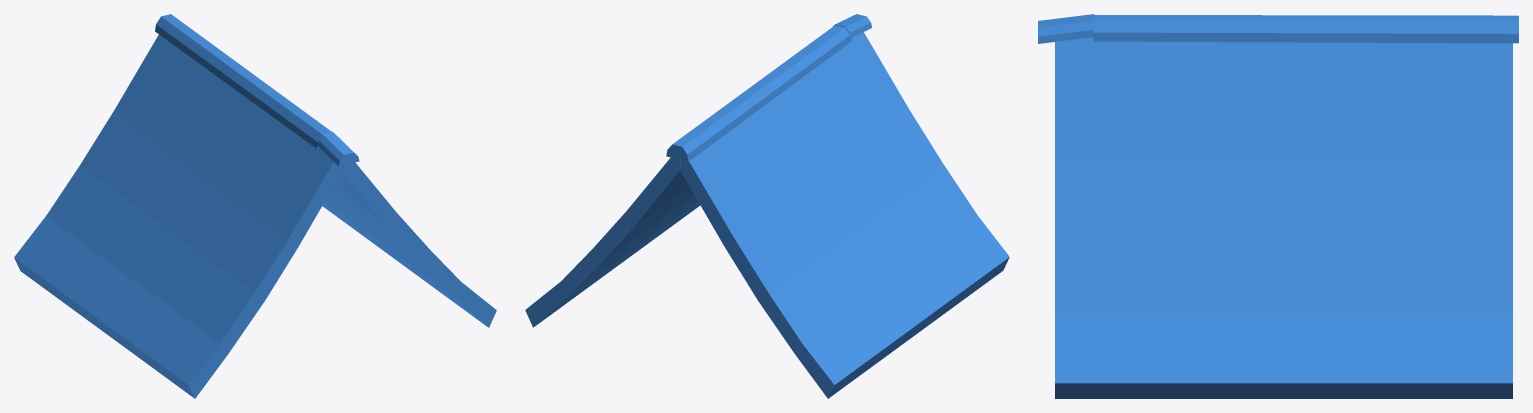
Rendered from Collision_Roof_RoundTiles_8x8.fbx.
The picture shows the model from 3 angles, left to right: view 1: azimuth 30°, elevation 25°; view 2: azimuth 150°, elevation 25°; view 3: azimuth 270°, elevation 25°; orthographic projection. The views are drawn at different scales.
Visible parts, largest first — view 1: UCX_Roof_RoundTiles_8x8_01; view 2: UCX_Roof_RoundTiles_8x8_01; view 3: UCX_Roof_RoundTiles_8x8_01.
Part boxes in pixels (left/top/right/bottom): UCX_Roof_RoundTiles_8x8_01: left=14, top=14, right=496, bottom=398; UCX_Roof_RoundTiles_8x8_01: left=525, top=14, right=1009, bottom=398; UCX_Roof_RoundTiles_8x8_01: left=1038, top=14, right=1518, bottom=398.
Size of the model in its own units: 996 by 678 by 1026.
